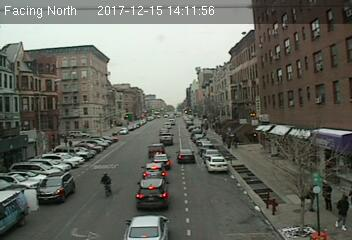bicycle: (99, 171, 113, 198)
car: (124, 214, 168, 240), (37, 173, 75, 202), (136, 179, 169, 210), (140, 164, 168, 180), (204, 156, 228, 173), (176, 149, 196, 163), (152, 153, 170, 168), (146, 143, 164, 158), (158, 133, 173, 145)
pedestrian: (336, 190, 349, 235), (320, 179, 334, 212)
truck: (1, 189, 28, 234)
